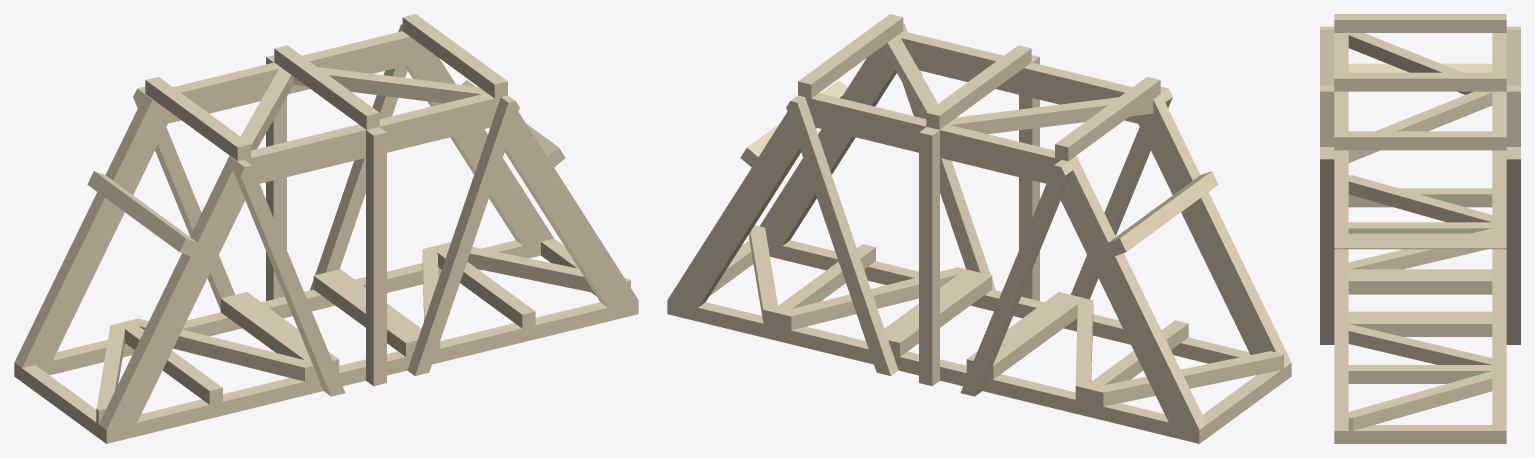
3 renders of one model, left to right at view 1: azimuth 30°, elevation 25°; view 2: azimuth 150°, elevation 25°; view 3: azimuth 270°, elevation 25°, orthographic. The views are drawn at different scales.
Visible parts, largest first — view 1: 1; view 2: 1; view 3: 1.
Boxes of the visible parts, box(x1,y1,x2,y2) form: 1: box(14, 14, 638, 443); 1: box(667, 14, 1291, 443); 1: box(1320, 14, 1520, 443).
Bounding box in the file's own units: 0.3569 × 0.1695 × 0.1249.
